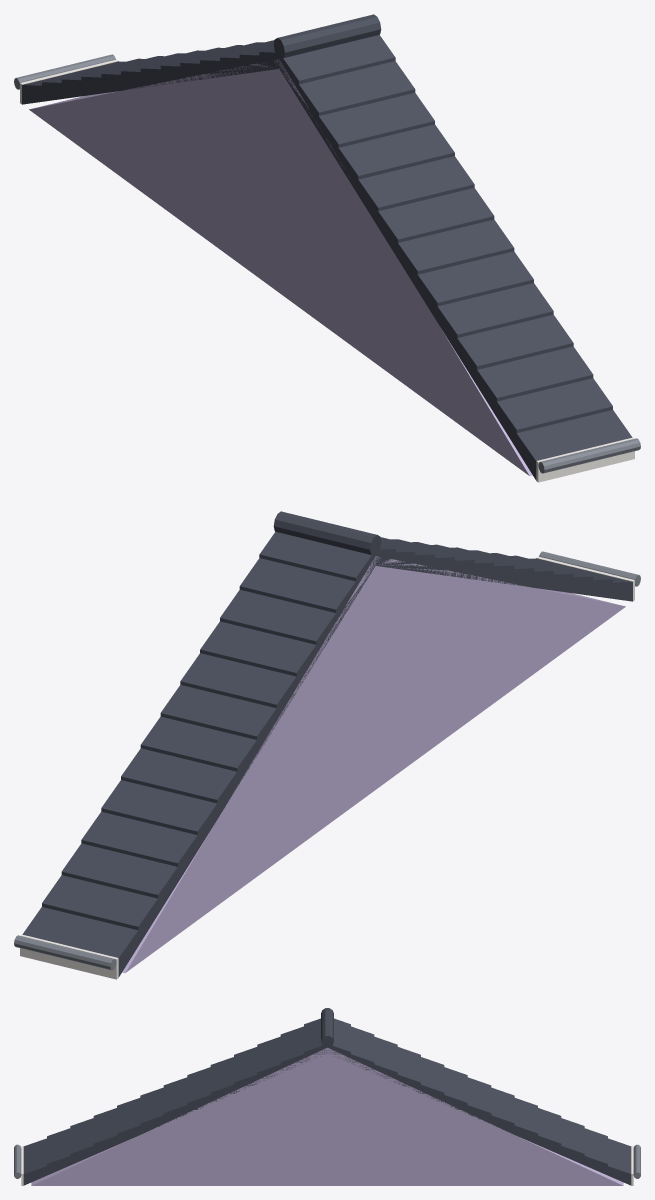
The model's file is roof-gable.glb.
The picture shows the model from 3 angles, top to bottom: view 1: azimuth 30°, elevation 25°; view 2: azimuth 150°, elevation 25°; view 3: azimuth 270°, elevation 25°; orthographic projection. The views are drawn at different scales.
Visible parts, largest first — view 1: roof-gable; view 2: roof-gable; view 3: roof-gable.
Boxes of the visible parts, left/top/right/bottom form: roof-gable: left=14, top=14, right=640, bottom=482; roof-gable: left=14, top=511, right=640, bottom=979; roof-gable: left=14, top=1008, right=640, bottom=1185.
Bounding box in the file's own units: 1 × 2.52 × 9.53.
